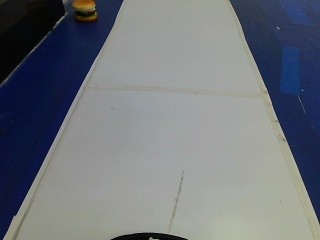burger: (66, 0, 103, 31)
